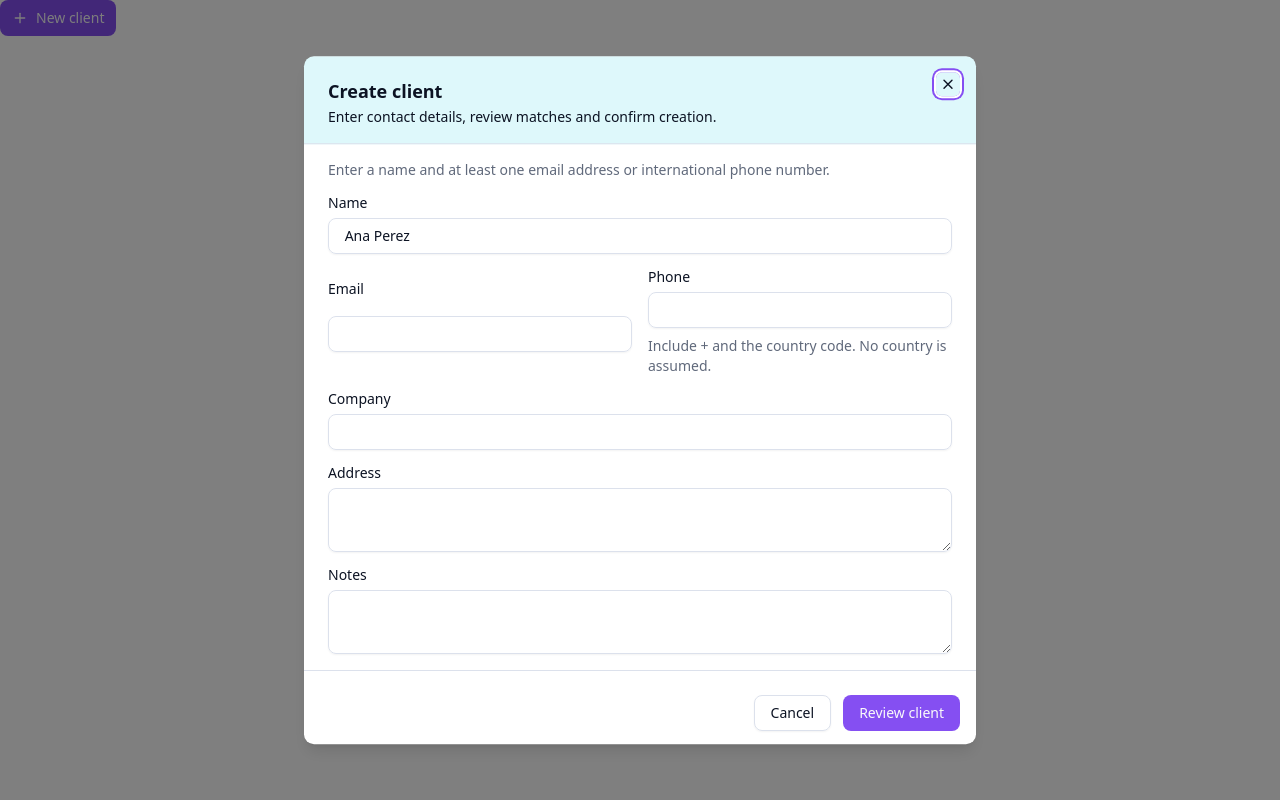
Test case: confirmed client creation › locks pending/uncertain confirmation and retries the identical plan and duplicate choice
Earlier steps of the test are not shown.
Later steps or results of the test are not shown.
Type "ANA@EXAMPLE.COM" into the field labelled "Email" at (480, 334), box x1=328 y1=316 x2=632 y2=352
Type "+53 5123 4567" into the field labelled "Phone" at (800, 310), box x1=648 y1=292 x2=952 y2=328
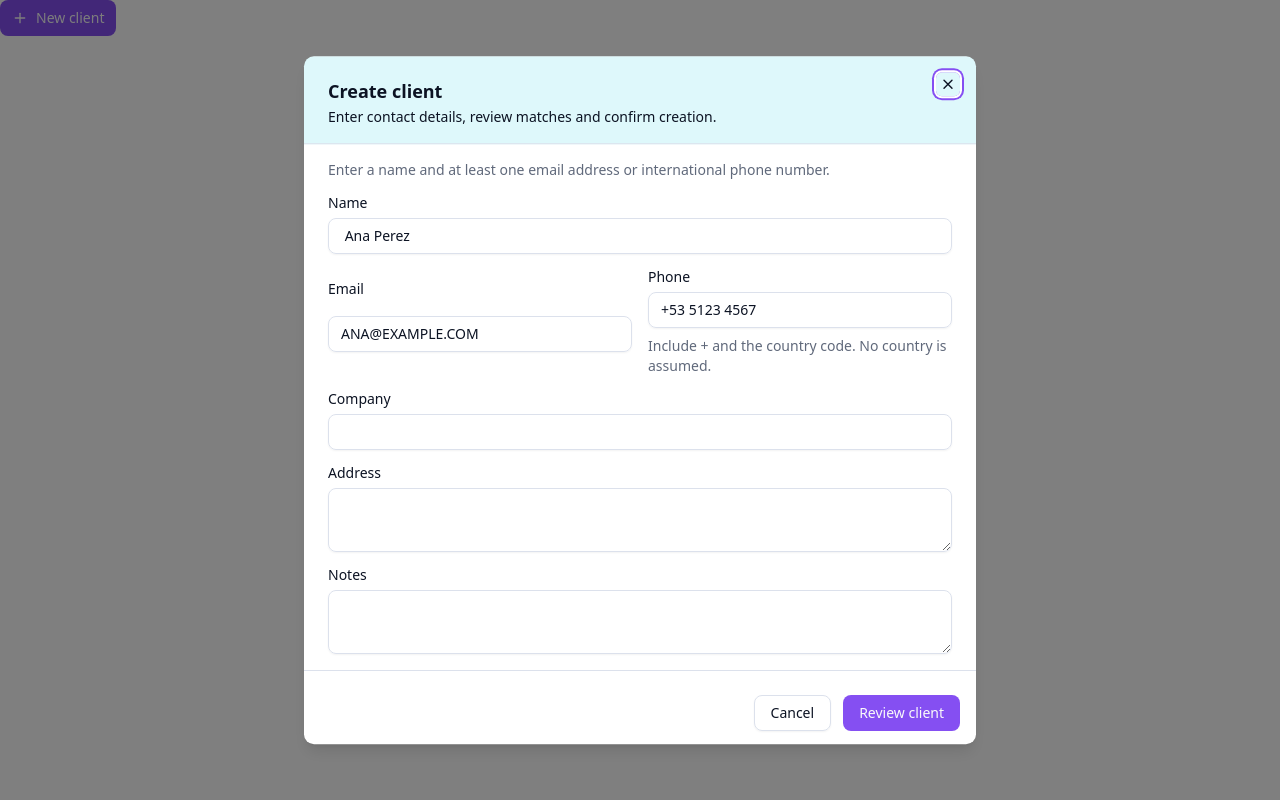
Type " Demo " into the field labelled "Company" at (640, 432), box x1=328 y1=414 x2=952 y2=450
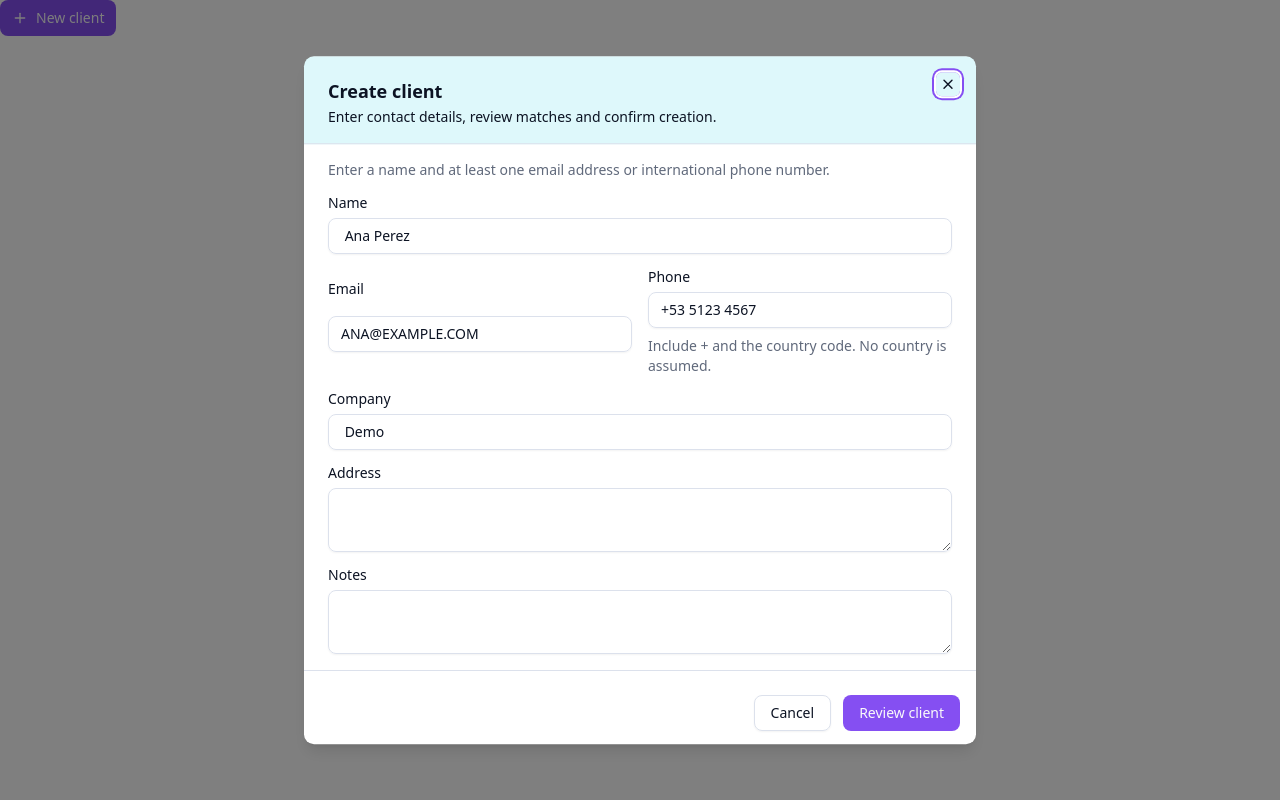
Click the button "Review client" at (902, 713), box x1=843 y1=695 x2=960 y2=731
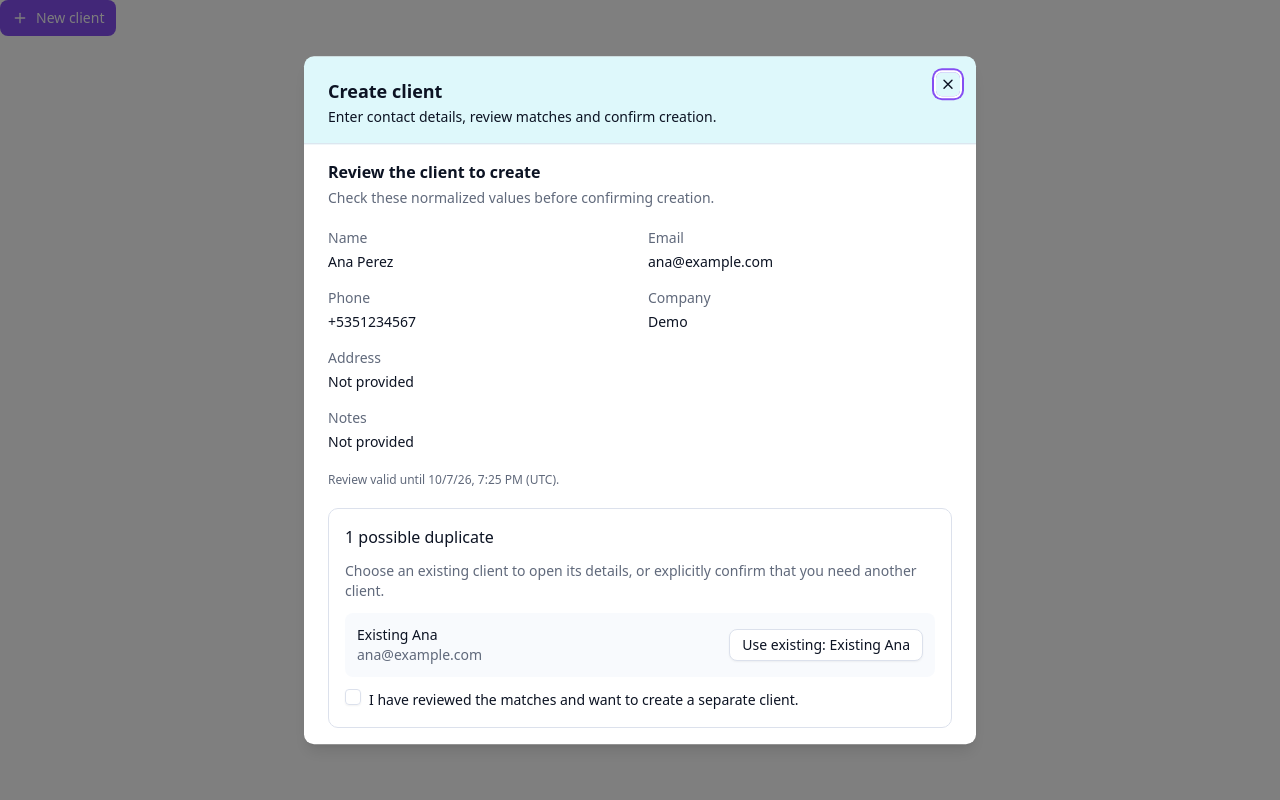
Expected: the element "Review the client to create" is shown, x1=304 y1=144 x2=976 y2=744
Click the checkbox at (353, 697), box x1=345 y1=689 x2=361 y2=705
(page scrolled)
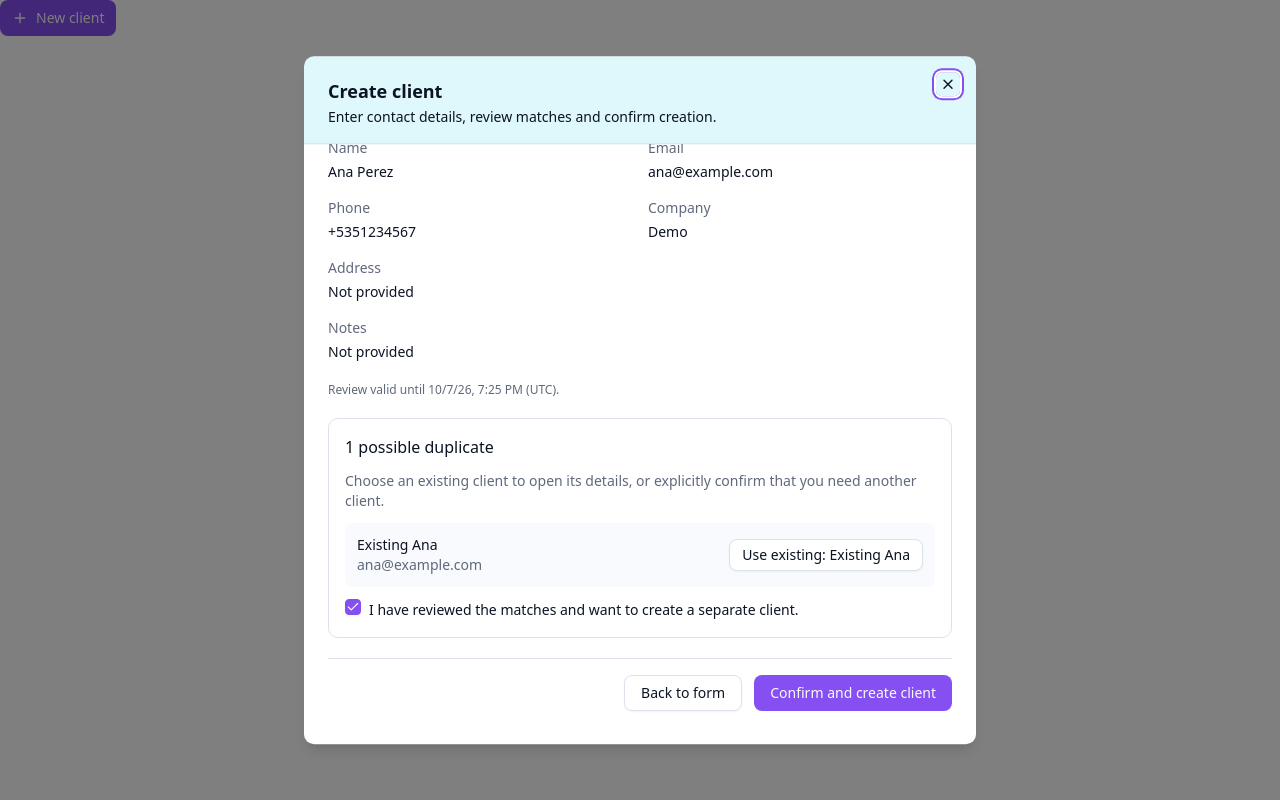
Click the button "Confirm and create client" at (853, 694), box x1=754 y1=676 x2=952 y2=712
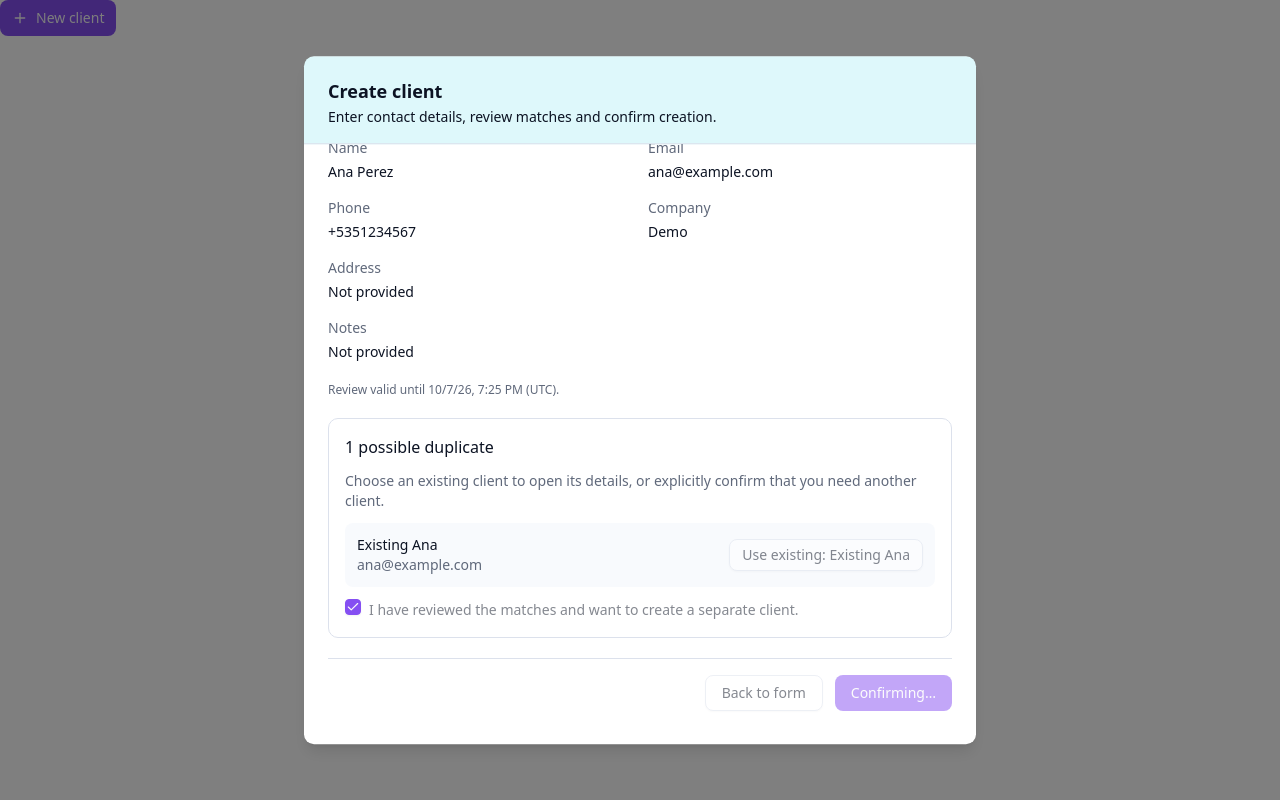
Click the button named "Confirm and create client" at (893, 694), box x1=835 y1=676 x2=952 y2=712
Press Escape in the dialog, box x1=304 y1=56 x2=976 y2=744
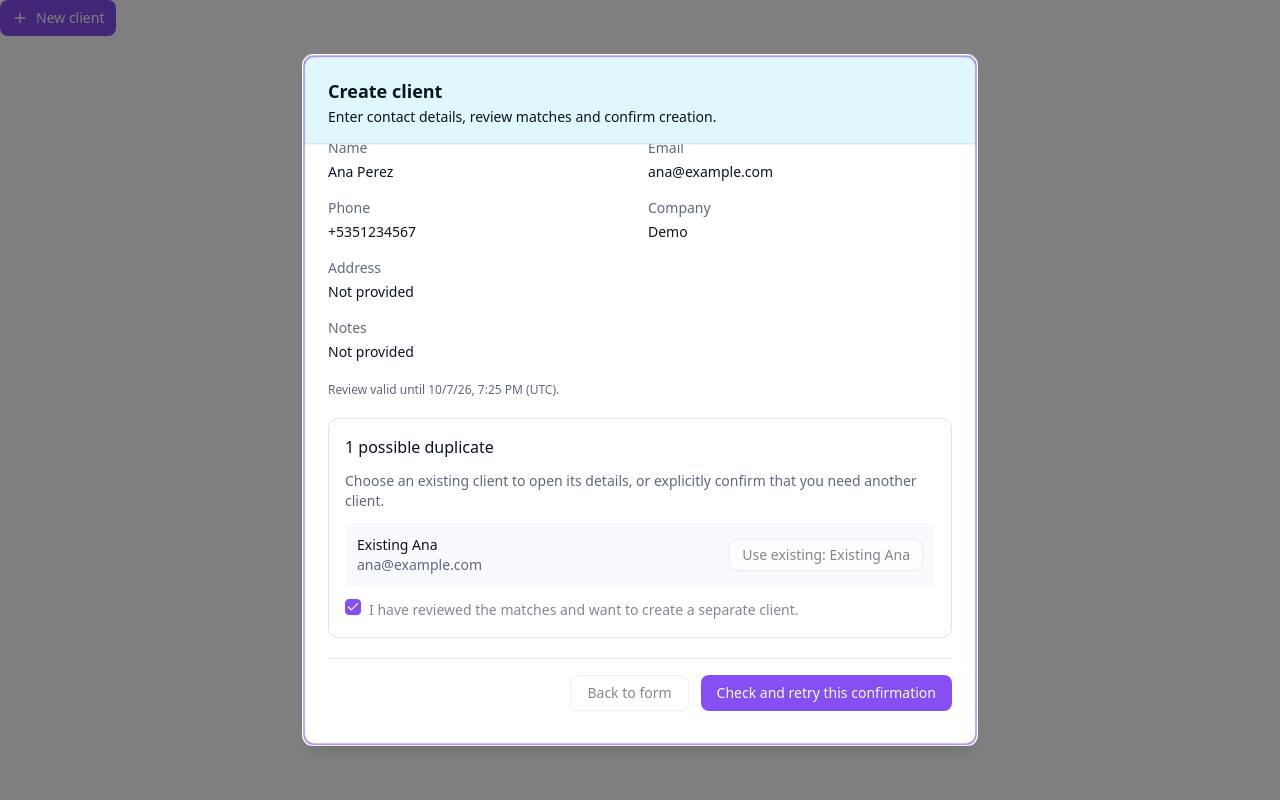
Expected: the dialog is shown, x1=304 y1=56 x2=976 y2=744
Expected: the button "Back to form" is disabled, x1=570 y1=676 x2=688 y2=712
Expected: the button "Use existing: Existing Ana" is disabled, x1=729 y1=539 x2=923 y2=571
